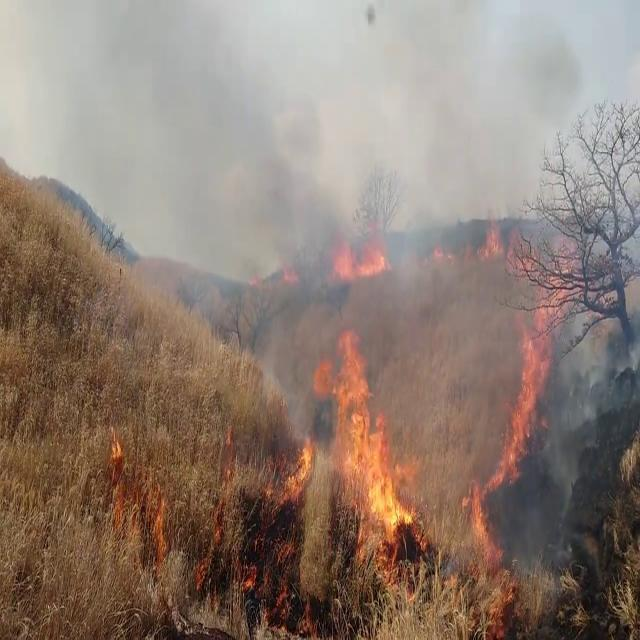Fire: (285, 304, 419, 559), (498, 289, 556, 483), (464, 476, 499, 573), (330, 233, 390, 289), (477, 216, 509, 267)
Smoke: (154, 15, 408, 298)
